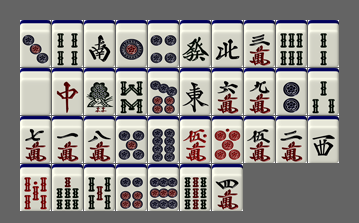0m: (180, 116, 211, 163)
0p: (212, 116, 243, 163)
0s: (20, 164, 51, 211)
1m: (52, 116, 83, 163)
1p: (116, 20, 147, 67)
1s: (84, 68, 115, 115)
1z: (180, 68, 211, 115)
2m: (276, 116, 307, 163)
2p: (276, 68, 307, 115)
2s: (308, 20, 339, 67)
2z: (84, 20, 115, 67)
3m: (244, 20, 275, 67)
3p: (20, 20, 51, 67)
3s: (308, 68, 339, 115)
3z: (308, 116, 339, 163)
4m: (212, 164, 243, 211)
4p: (148, 20, 179, 67)
4s: (52, 20, 83, 67)
4z: (212, 20, 243, 67)
5m: (244, 116, 275, 163)
5p: (116, 116, 147, 163)
5s: (84, 164, 115, 211)
5z: (20, 68, 51, 115)
6m: (212, 68, 243, 115)
6p: (116, 164, 147, 211)
6s: (276, 20, 307, 67)
6z: (180, 20, 211, 67)
7m: (20, 116, 51, 163)
7p: (148, 68, 179, 115)
7s: (52, 164, 83, 211)
7z: (52, 68, 83, 115)
8m: (84, 116, 115, 163)
8p: (148, 116, 179, 163)
8s: (116, 68, 147, 115)
9m: (244, 68, 275, 115)
9p: (148, 164, 179, 211)
9s: (180, 164, 211, 211)
